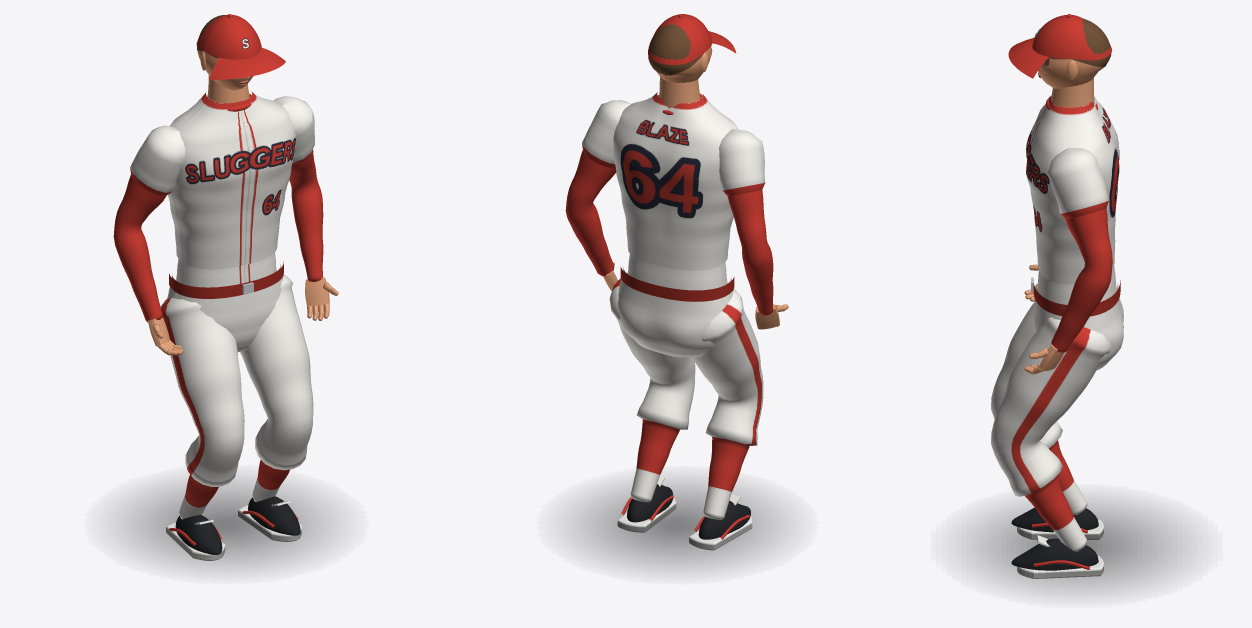
File: player_07_home.glb
3 renders of one model, left to right at view 1: azimuth 30°, elevation 25°; view 2: azimuth 150°, elevation 25°; view 3: azimuth 270°, elevation 25°, orthographic. The views are drawn at different scales.
Visible parts, largest first — view 1: player_07_home, object 30, object 32, object 2; view 2: player_07_home, object 29, object 30, object 2, object 34; view 3: player_07_home, object 30, object 34, object 32, object 2, object 29.
Part boxes in pixels (left/top/right/bottom): player_07_home: left=113, top=91, right=334, bottom=570; object 30: left=196, top=14, right=261, bottom=59; object 32: left=209, top=47, right=285, bottom=79; object 2: left=207, top=75, right=249, bottom=103; player_07_home: left=565, top=92, right=785, bottom=570; object 29: left=648, top=24, right=704, bottom=75; object 30: left=648, top=14, right=712, bottom=64; object 2: left=659, top=77, right=700, bottom=108; object 34: left=652, top=46, right=712, bottom=82; player_07_home: left=966, top=95, right=1187, bottom=592; object 30: left=1032, top=14, right=1112, bottom=60; object 34: left=1038, top=58, right=1103, bottom=88; object 32: left=1008, top=37, right=1049, bottom=78; object 2: left=1051, top=77, right=1094, bottom=107; object 29: left=1049, top=18, right=1111, bottom=66.
Bounding box in the file's own units: 3.5 × 6.47 × 3.5.
Materials: 27 (5 with a texture image).
